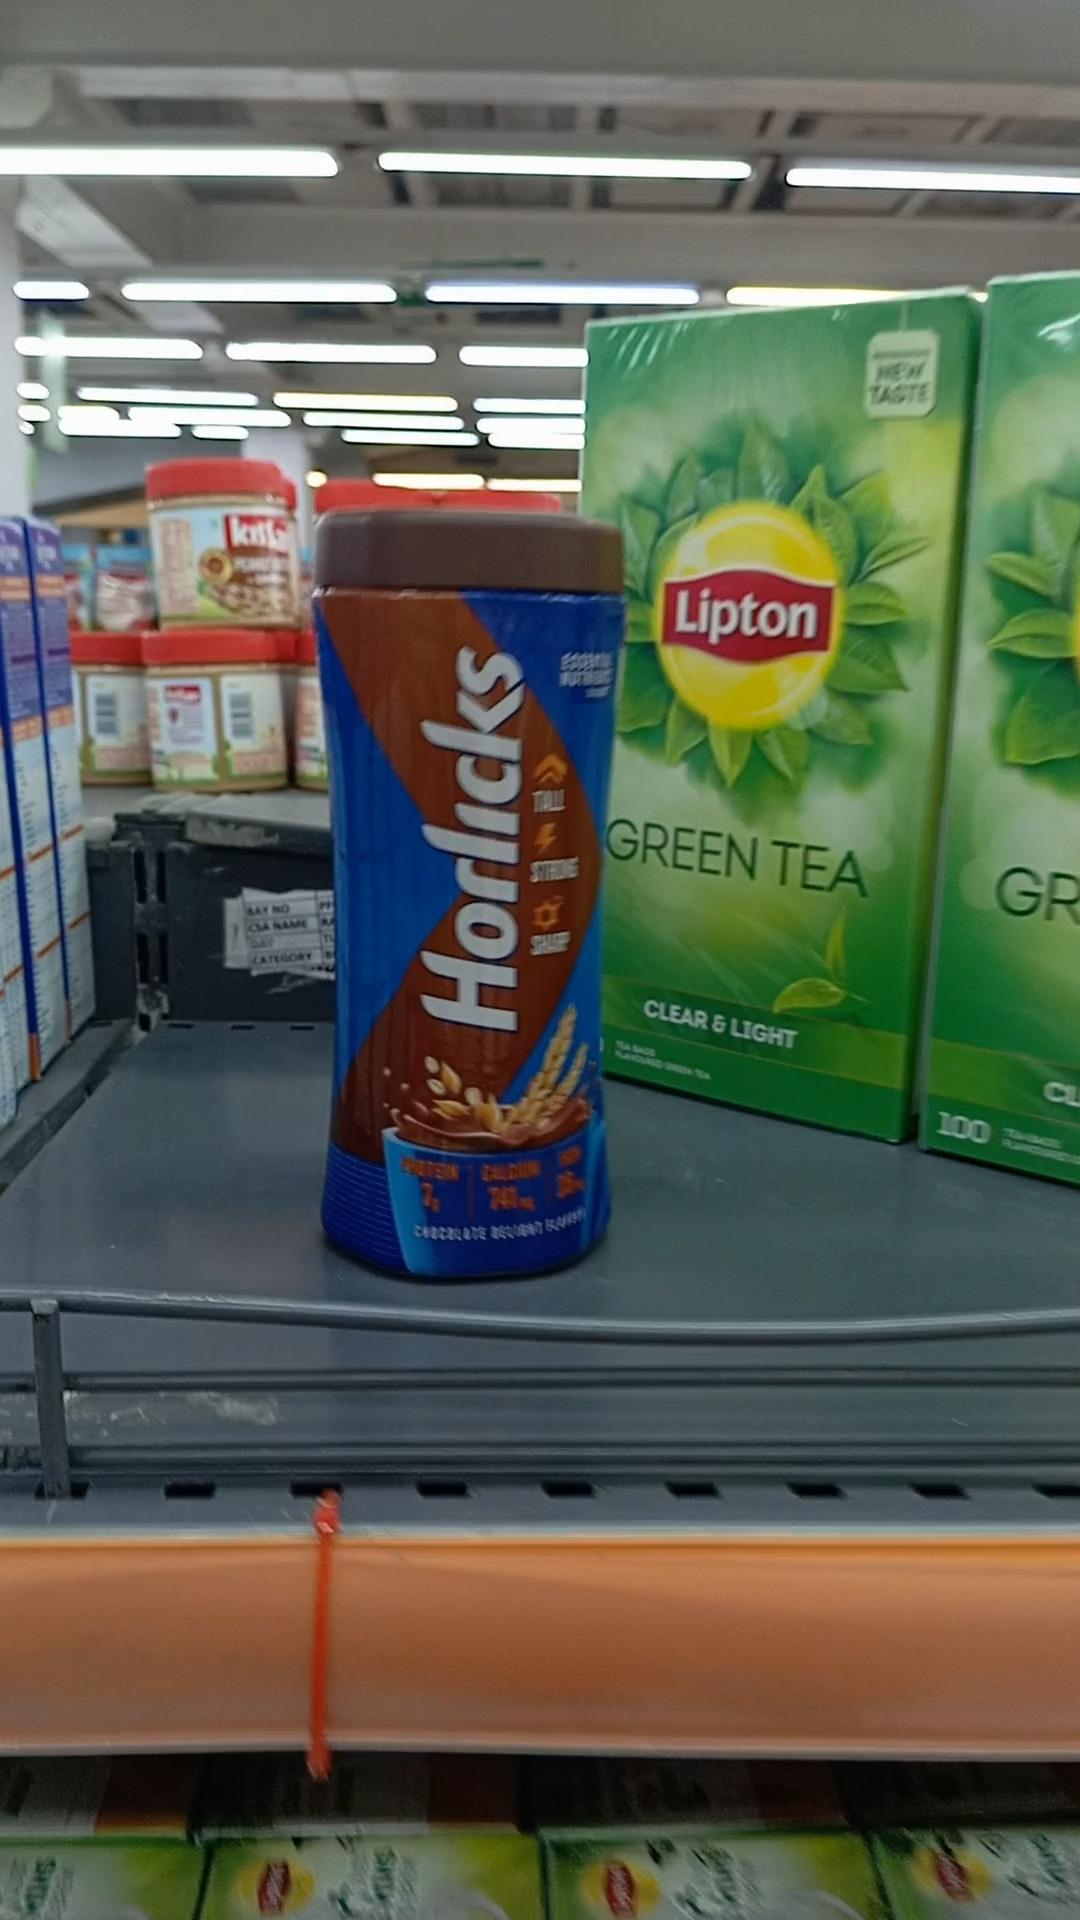HORLICK_CHOCOLATE_500_G_JAR: (311, 508, 618, 1286)
